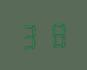eight: (43, 20, 66, 48)
three: (19, 21, 42, 50)
